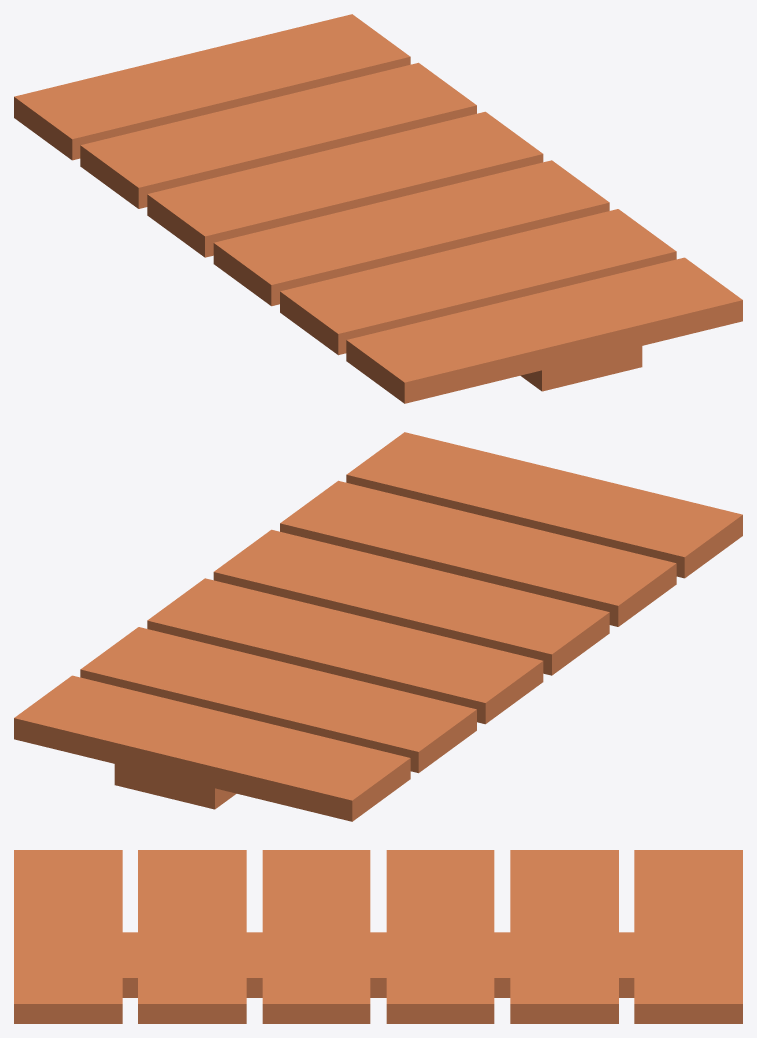
File: planksHalf.obj
The picture shows the model from 3 angles, top to bottom: view 1: azimuth 30°, elevation 25°; view 2: azimuth 150°, elevation 25°; view 3: azimuth 270°, elevation 25°; orthographic projection. The views are drawn at different scales.
Visible parts, largest first — view 1: planks; view 2: planks; view 3: planks.
Part boxes in pixels (<box>): planks: <box>14,14,742,403</box>; planks: <box>14,432,742,821</box>; planks: <box>14,850,742,1023</box>.
Size of the model in its own units: 0.5 by 0.06 by 1.
